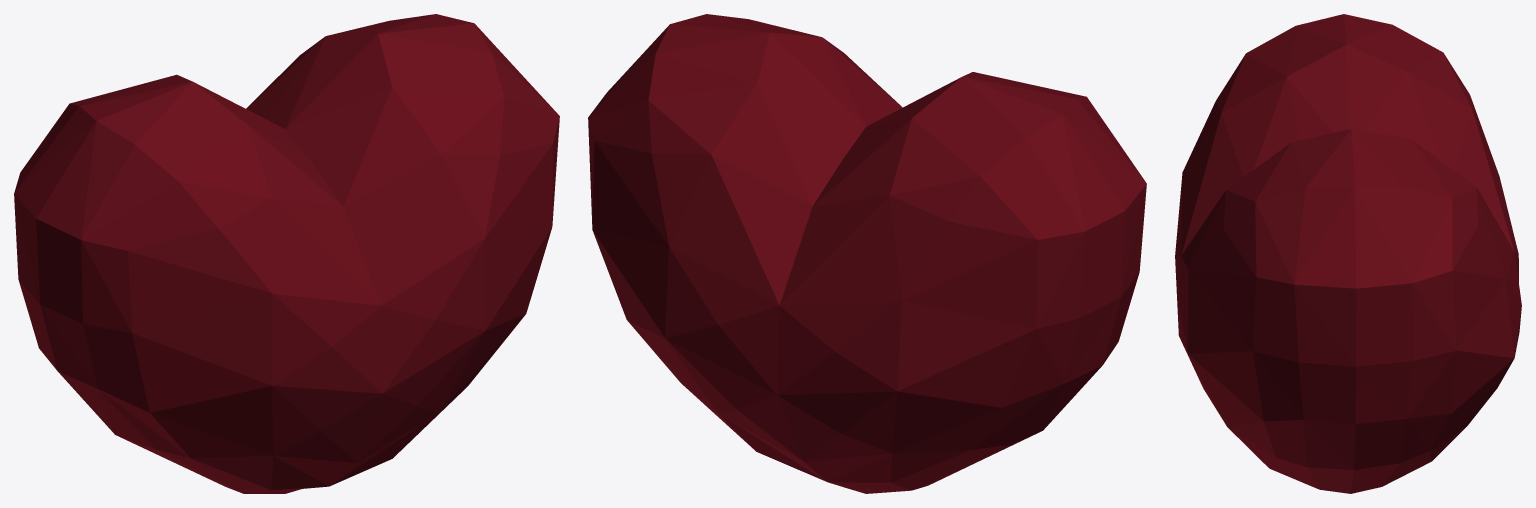
Rendered from Corazon.fbx.
3 renders of one model, left to right at view 1: azimuth 30°, elevation 25°; view 2: azimuth 150°, elevation 25°; view 3: azimuth 270°, elevation 25°, orthographic. The views are drawn at different scales.
Visible parts, largest first — view 1: Cube_Material_0; view 2: Cube_Material_0; view 3: Cube_Material_0.
Boxes of the visible parts, x1,y1,x2,y2 form: Cube_Material_0: [14, 14, 559, 493]; Cube_Material_0: [588, 14, 1146, 493]; Cube_Material_0: [1175, 14, 1521, 493].
Size of the model in its own units: 305 by 251 by 197.
